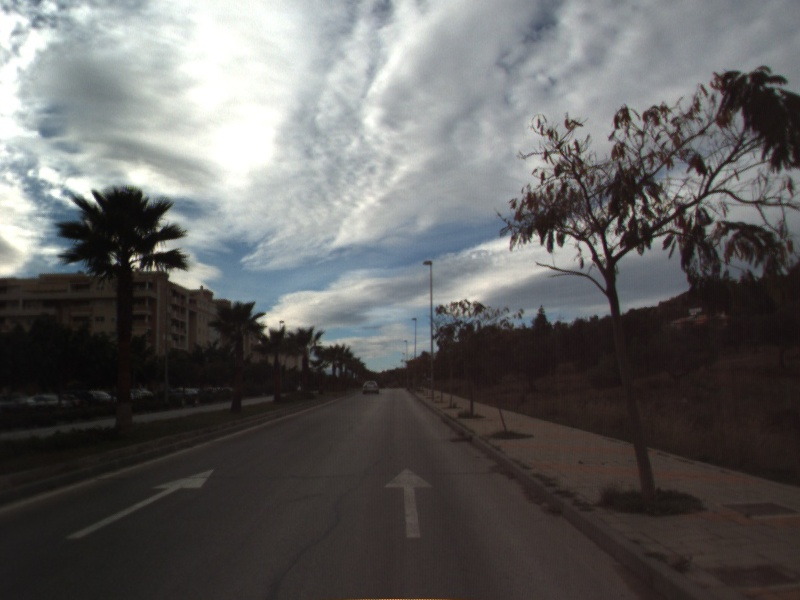STRAIGHT: (63, 467, 216, 541), (382, 466, 436, 540)
